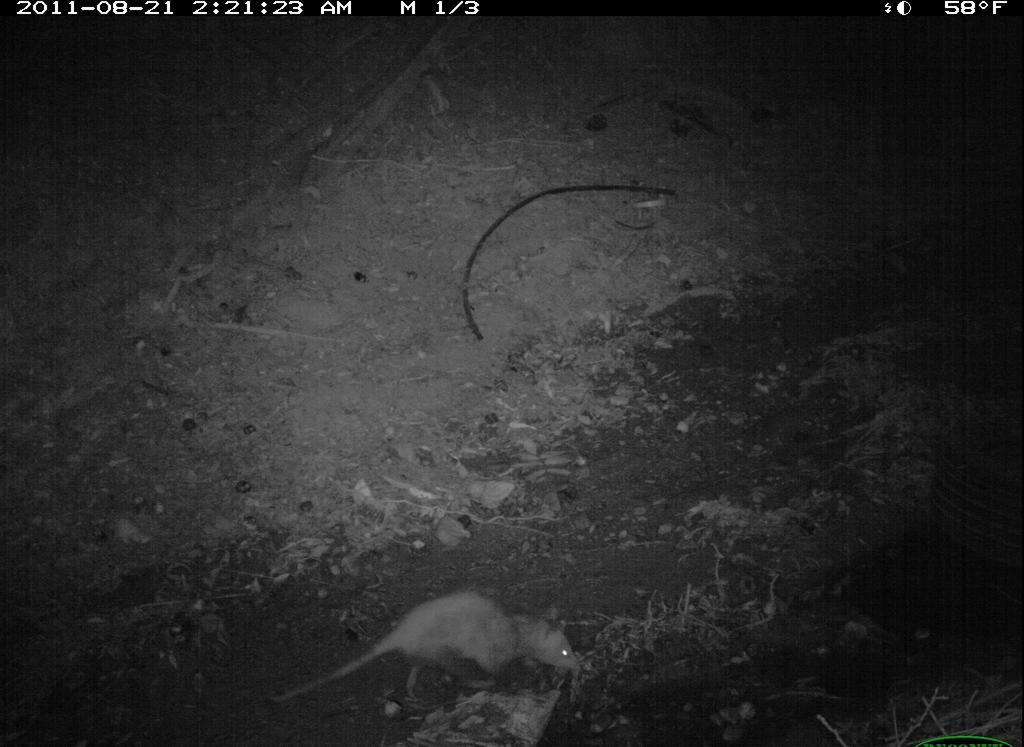opossum: (263, 587, 592, 713)
